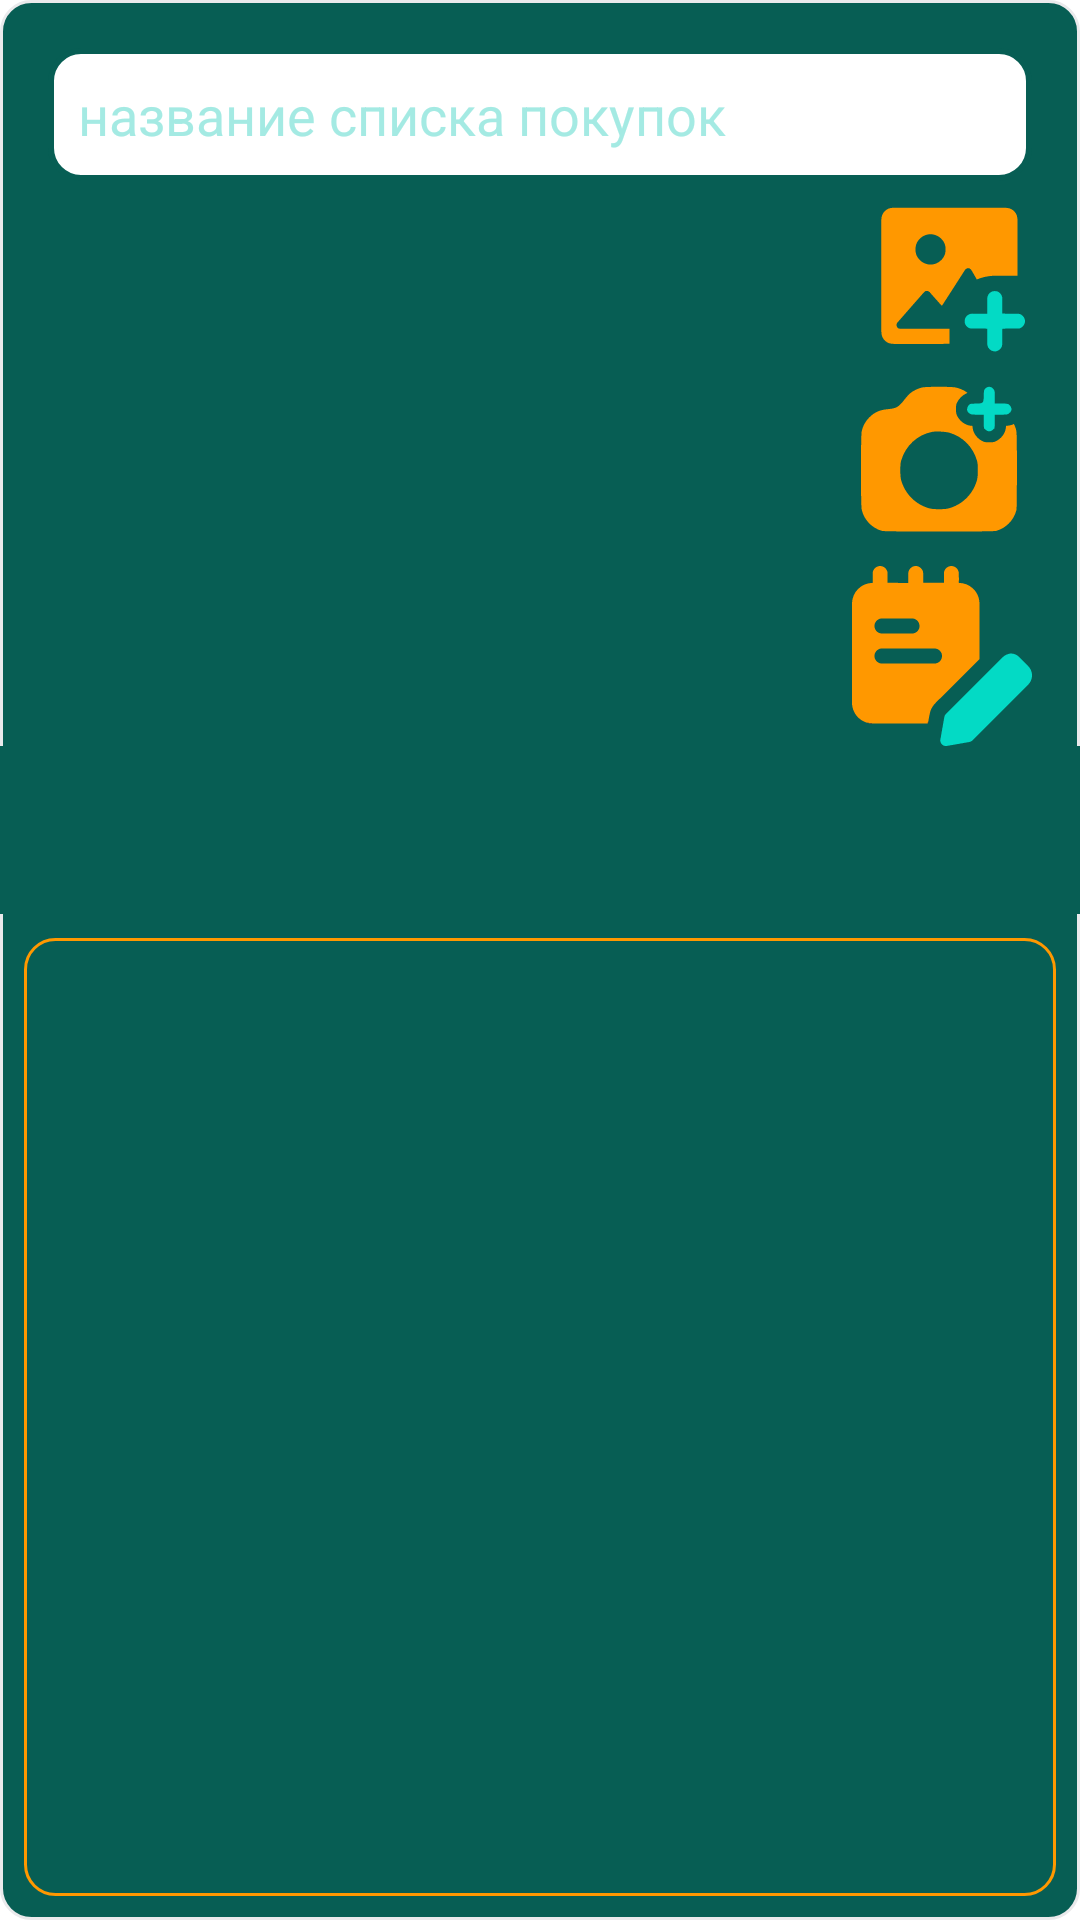

Icons on this 1080 x 1920 Android screen, each with the point to tap as (x,y):
edit note: (942,656)
